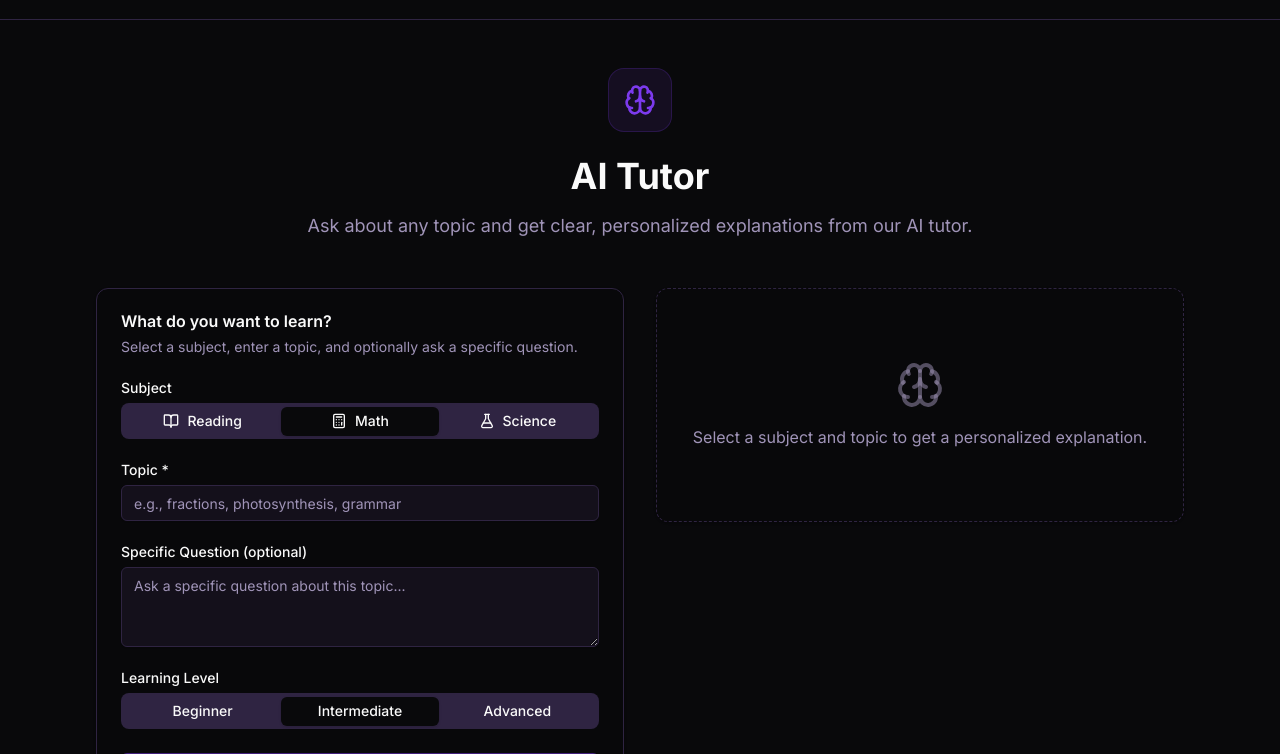
Test: Learn Page › Form Interaction › submit button is enabled when topic has value
In the field labelled "Topic *": [360, 503] box left=121, top=485, right=599, bottom=521, type "fractions"
(page scrolled)
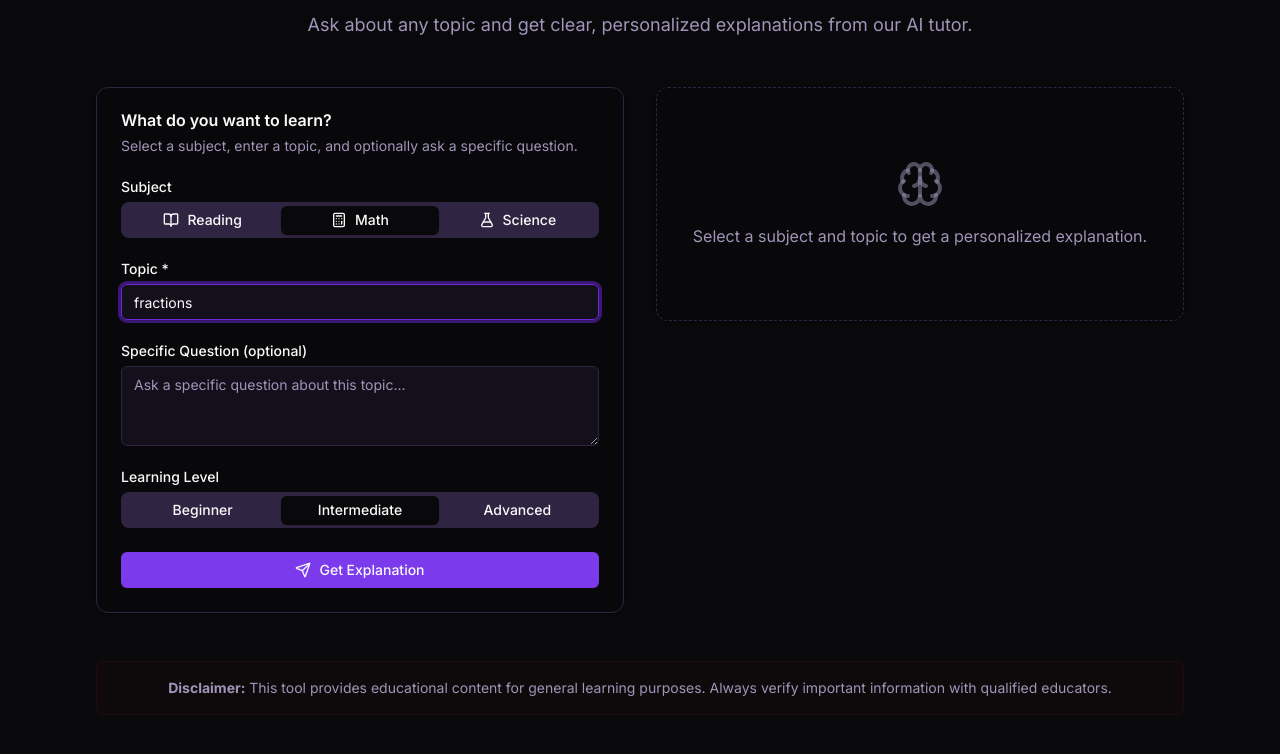
Now the button "Get Explanation" is enabled, box left=121, top=552, right=599, bottom=588
